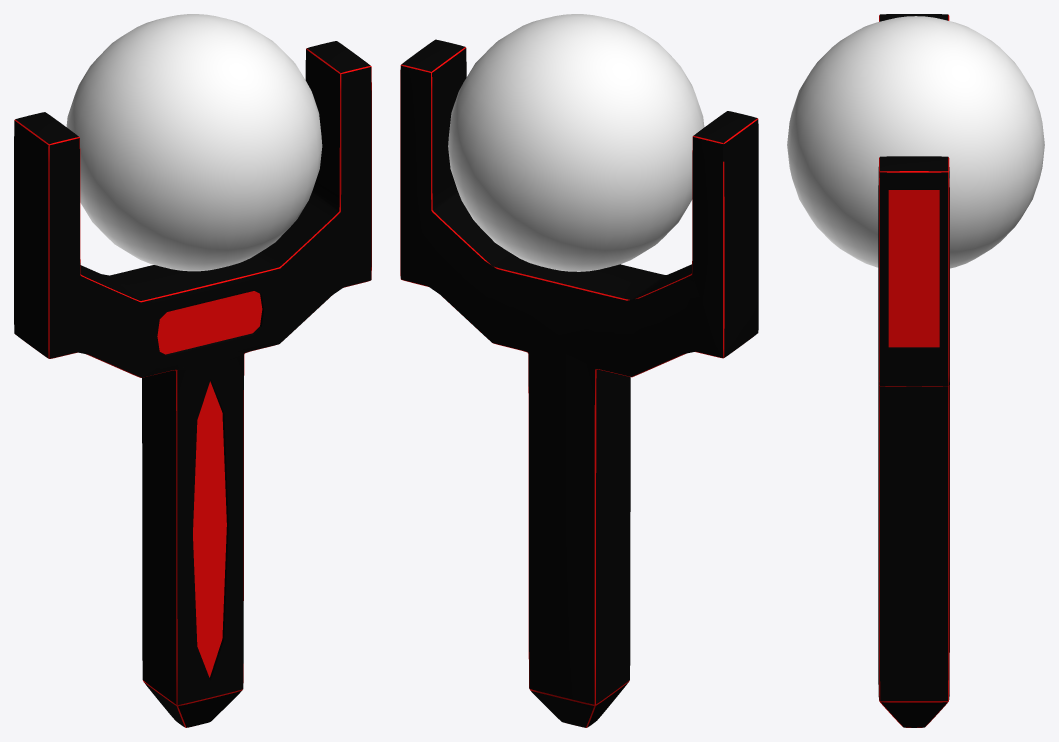
Rendered from main.fbx.
The picture shows the model from 3 angles, left to right: view 1: azimuth 30°, elevation 25°; view 2: azimuth 150°, elevation 25°; view 3: azimuth 270°, elevation 25°; orthographic projection.
Visible parts, largest first — view 1: main, direction, vitesse, timer, bords; view 2: main, direction, bords; view 3: direction, main, argent, bords.
Part boxes in pixels (x1,y1,x2,y2): main: (14, 41, 371, 727); direction: (66, 14, 322, 271); vitesse: (193, 381, 226, 677); timer: (157, 291, 262, 354); bords: (14, 48, 371, 727); main: (400, 39, 758, 727); direction: (448, 14, 704, 271); bords: (400, 47, 757, 727); direction: (787, 16, 1044, 268); main: (878, 14, 949, 727); argent: (888, 190, 939, 347); bords: (879, 15, 949, 727).
Size of the model in its own units: 35.56 by 72.78 by 24.45.
